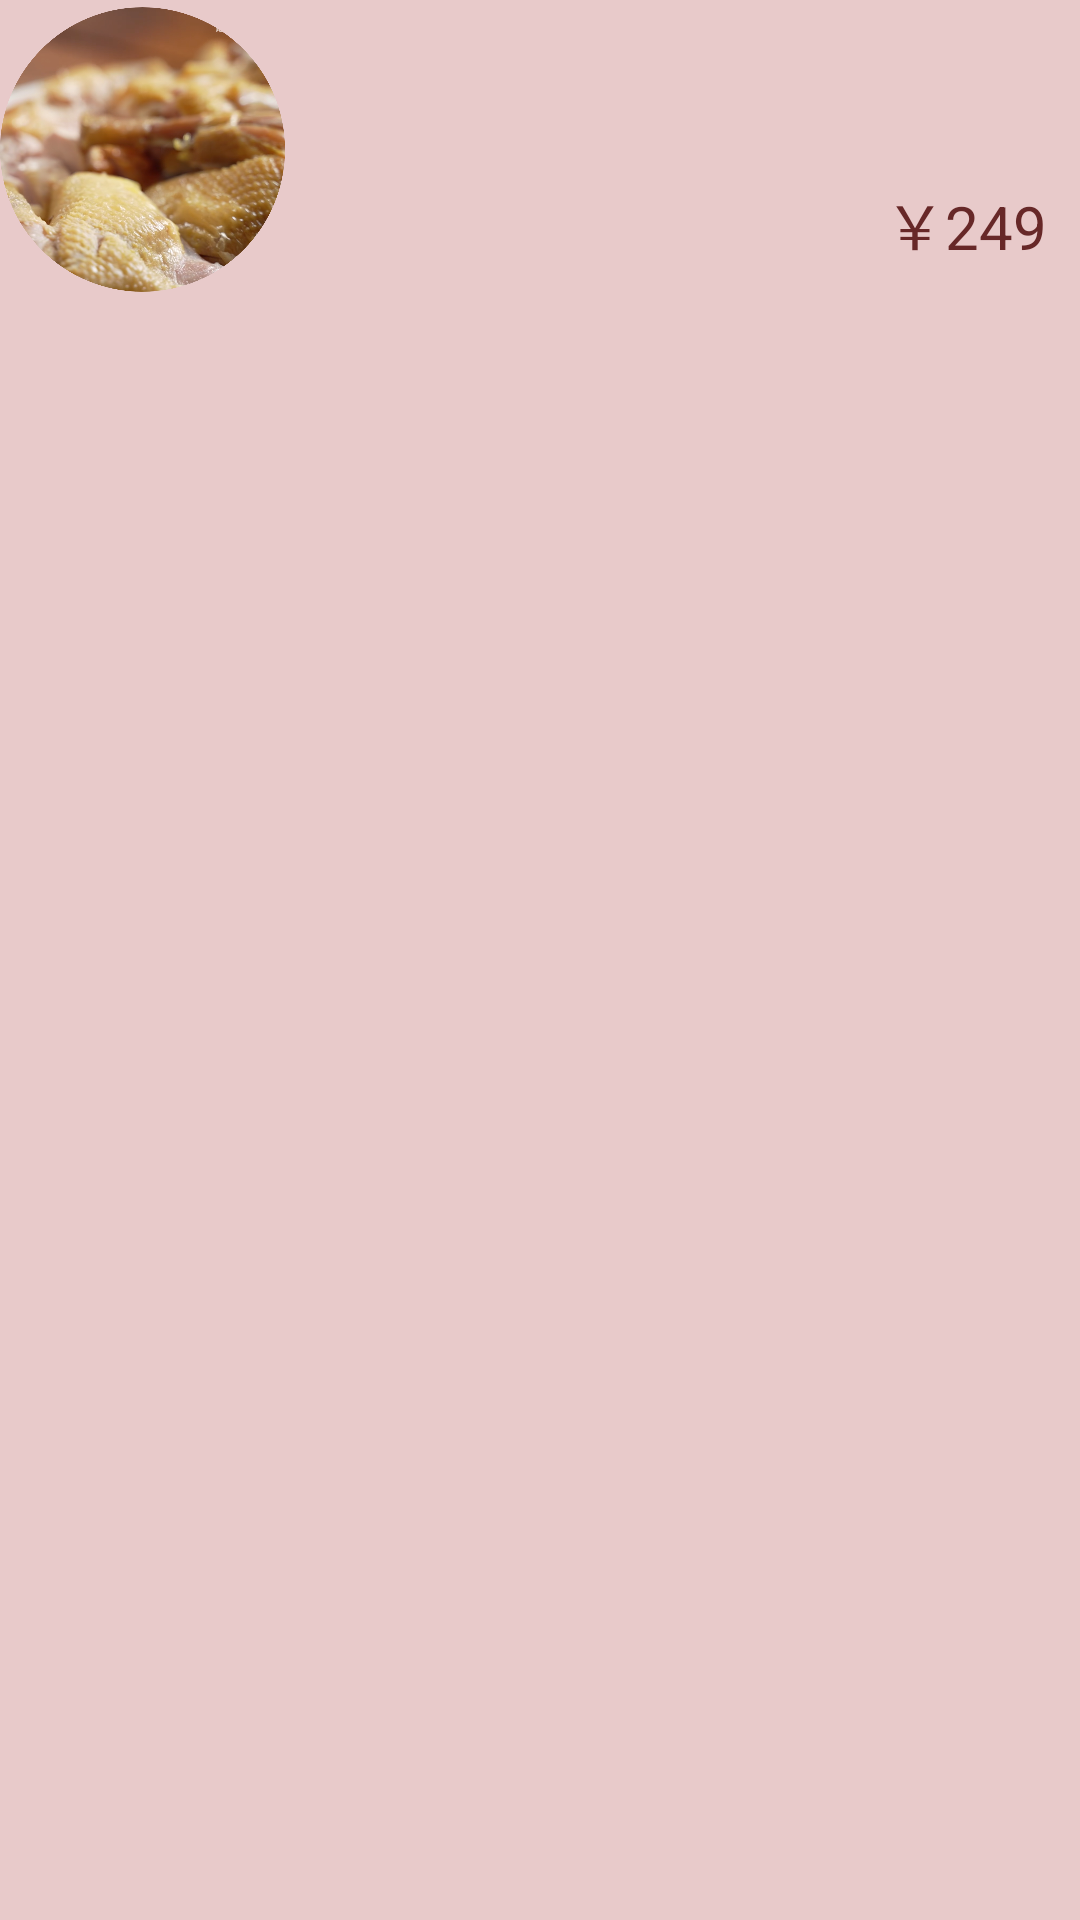

Point at icon controls on the screen. Image size 1080 x 1920, points as [x,y].
food: [142,149]
